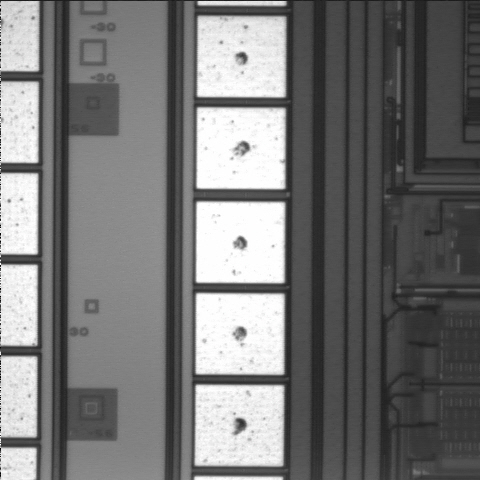pad: (196, 107, 285, 189), (196, 293, 284, 375), (197, 16, 286, 97), (196, 202, 285, 283), (195, 385, 284, 466)
